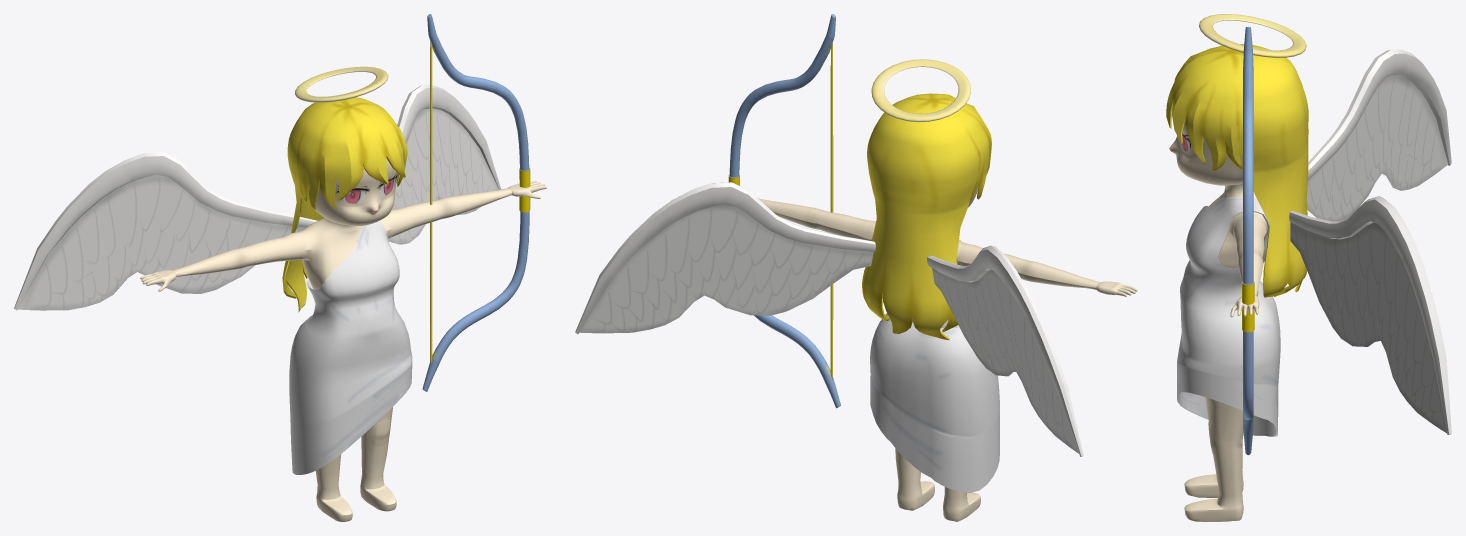
File: engel_Tpause.fbx
3 renders of one model, left to right at view 1: azimuth 30°, elevation 25°; view 2: azimuth 150°, elevation 25°; view 3: azimuth 270°, elevation 25°, orthographic. The views are drawn at different scales.
Visible parts, largest first — view 1: Angel_s_wing:polySurface1Shape, polySurface2, polySurface3, polySurface4, pCylinder3, pTorus1; view 2: Angel_s_wing:polySurface1Shape, polySurface4, polySurface2, polySurface3, pCylinder3, pTorus1; view 3: Angel_s_wing:polySurface1Shape, polySurface4, polySurface2, polySurface3, pCylinder3, pTorus1.
Part boxes in pixels (<box>): Angel_s_wing:polySurface1Shape: <box>14,85,500,310</box>; polySurface2: <box>289,220,412,474</box>; polySurface3: <box>140,159,546,521</box>; polySurface4: <box>282,97,407,312</box>; pCylinder3: <box>422,14,530,391</box>; pTorus1: <box>295,66,388,102</box>; Angel_s_wing:polySurface1Shape: <box>575,182,1083,456</box>; polySurface4: <box>862,93,991,340</box>; polySurface2: <box>870,234,999,492</box>; polySurface3: <box>758,186,1137,521</box>; pCylinder3: <box>728,14,840,408</box>; pTorus1: <box>871,59,970,122</box>; Angel_s_wing:polySurface1Shape: <box>1289,49,1451,434</box>; polySurface4: <box>1166,44,1308,297</box>; polySurface2: <box>1177,196,1280,436</box>; polySurface3: <box>1169,122,1267,521</box>; pCylinder3: <box>1242,26,1254,455</box>; pTorus1: <box>1199,14,1306,57</box>.
Size of the model in its own units: 9.75 by 8.82 by 4.32.
1 material, 1 textured.
